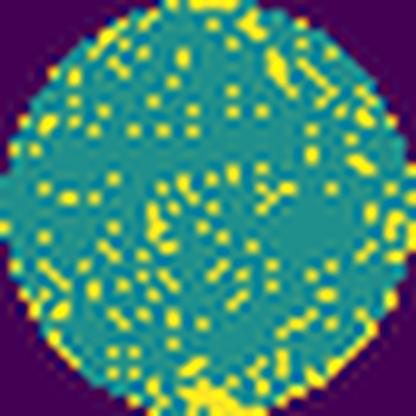Edge-Loc: (274, 311, 391, 408), (170, 376, 270, 416), (180, 0, 247, 17)
